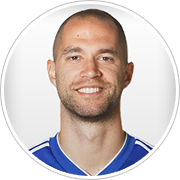face: (44, 32, 135, 112)
